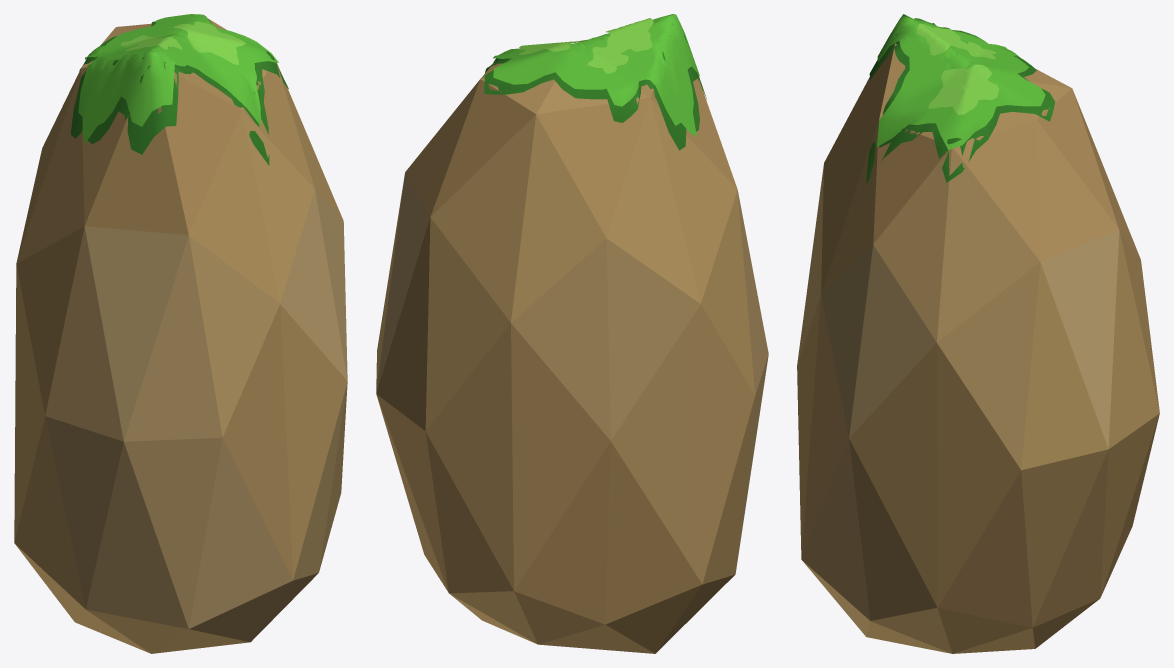
Rendered from rock_3_clover.glb.
3 views of the same model, side by side, from view 1: azimuth 30°, elevation 25°; view 2: azimuth 150°, elevation 25°; view 3: azimuth 270°, elevation 25° (orthographic). The views are drawn at different scales.
Parts seen in each view (by area): view 1: rock_3_clover; view 2: rock_3_clover; view 3: rock_3_clover.
Part boxes in pixels (bbox=[...]): rock_3_clover: bbox=[14, 14, 347, 653]; rock_3_clover: bbox=[376, 14, 768, 653]; rock_3_clover: bbox=[797, 14, 1159, 653].
Bounding box in the file's own units: 1.15 × 2.03 × 1.12.
